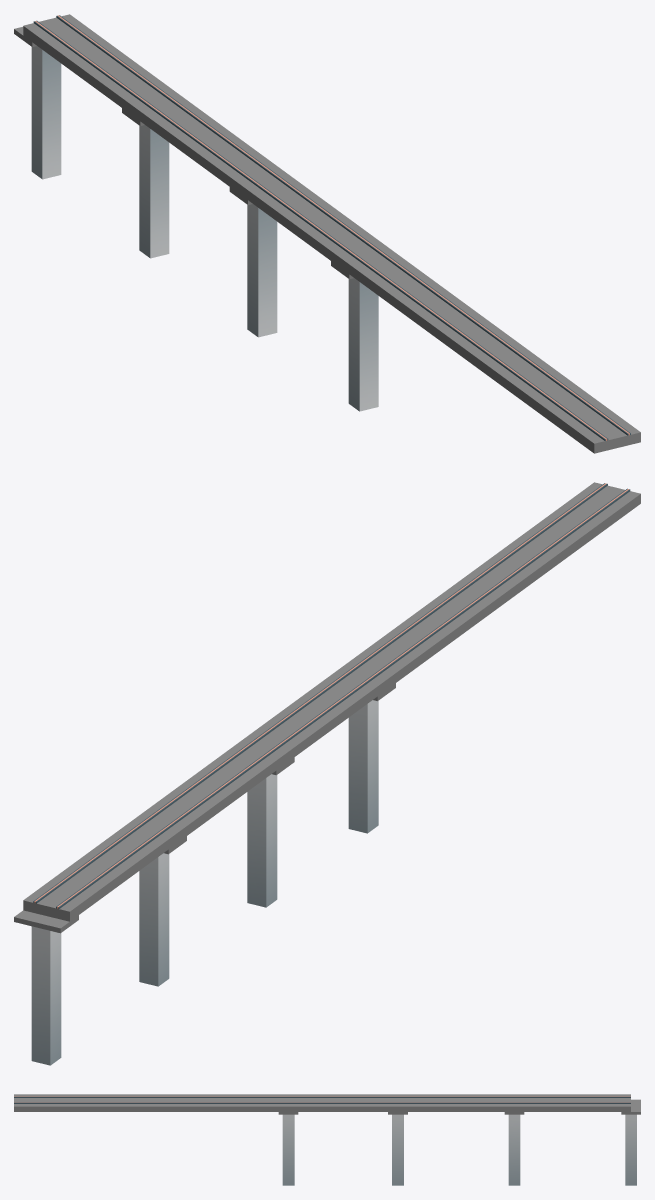
File: Metro_Track.fbx
The picture shows the model from 3 angles, top to bottom: view 1: azimuth 30°, elevation 25°; view 2: azimuth 150°, elevation 25°; view 3: azimuth 270°, elevation 25°; orthographic projection. The views are drawn at different scales.
Parts seen in each view (by area): view 1: Metro_Track; view 2: Metro_Track; view 3: Metro_Track.
Part boxes in pixels (box(x1,y1,x2,y2)): Metro_Track: box(14, 14, 640, 453); Metro_Track: box(14, 482, 640, 1065); Metro_Track: box(14, 1094, 640, 1185).
Bounding box in the file's own units: 0.6445 × 2.04 × 13.88.
